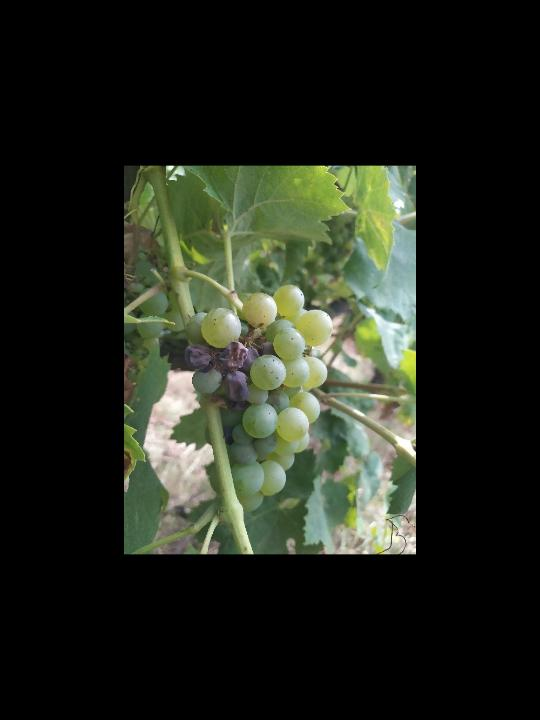grape: (184, 283, 334, 514)
